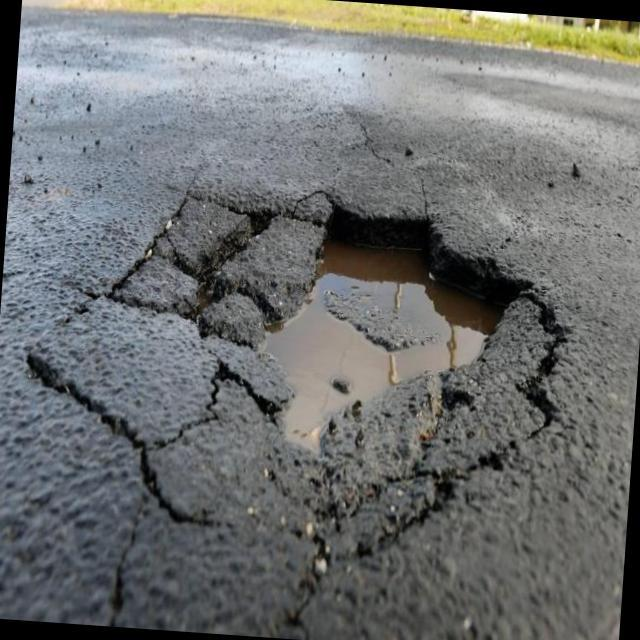Pothole: (131, 195, 558, 539)
